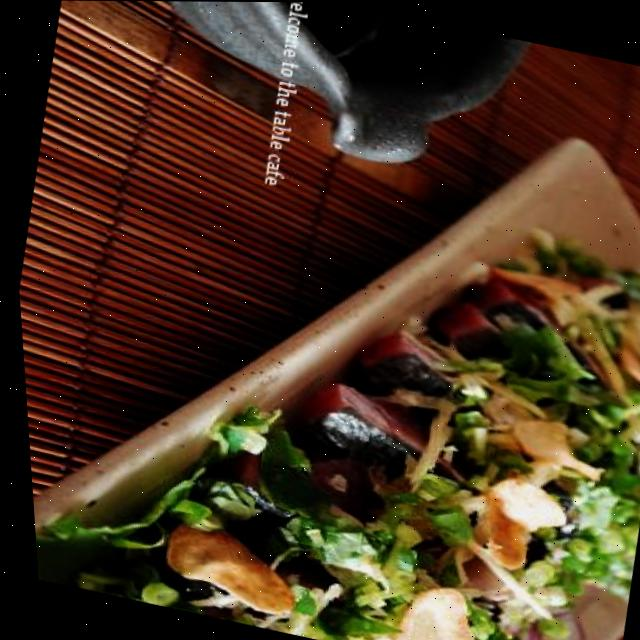熟制海鲜: (4, 78, 640, 640)
